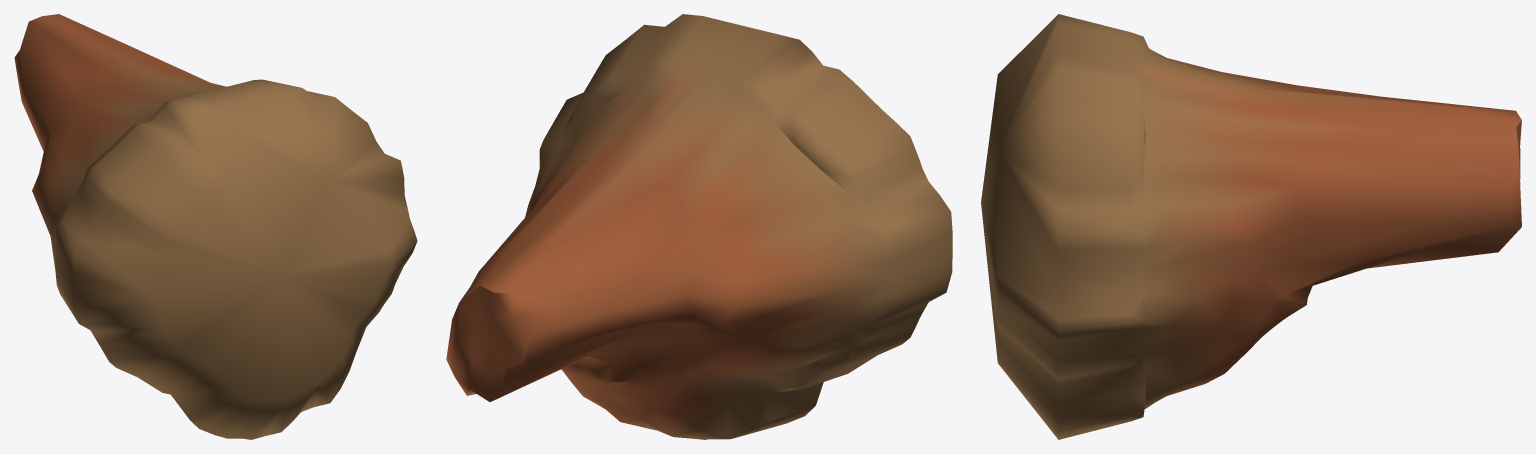
File: RedStoneMountain.005.glb
3 renders of one model, left to right at view 1: azimuth 30°, elevation 25°; view 2: azimuth 150°, elevation 25°; view 3: azimuth 270°, elevation 25°, orthographic. The views are drawn at different scales.
Parts seen in each view (by area): view 1: RedStoneMountain.005; view 2: RedStoneMountain.005; view 3: RedStoneMountain.005.
Boxes of the visible parts, left/top/right/bottom form: RedStoneMountain.005: left=14, top=14, right=417, bottom=439; RedStoneMountain.005: left=446, top=14, right=952, bottom=439; RedStoneMountain.005: left=981, top=14, right=1521, bottom=439.
Size of the model in its own units: 3013 by 2865 by 3726.
